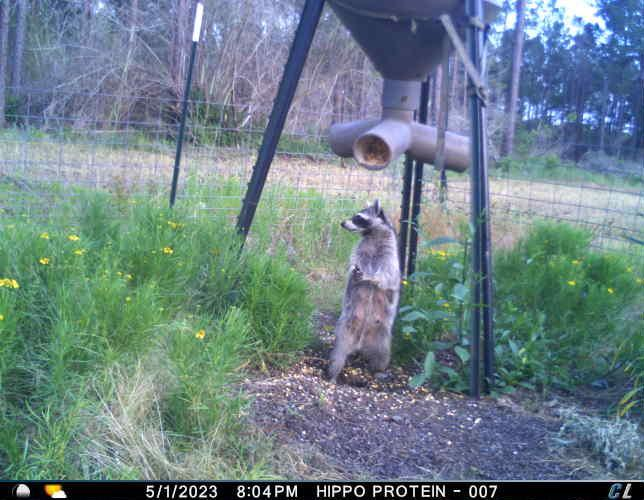Raccoon: (319, 196, 402, 388)
